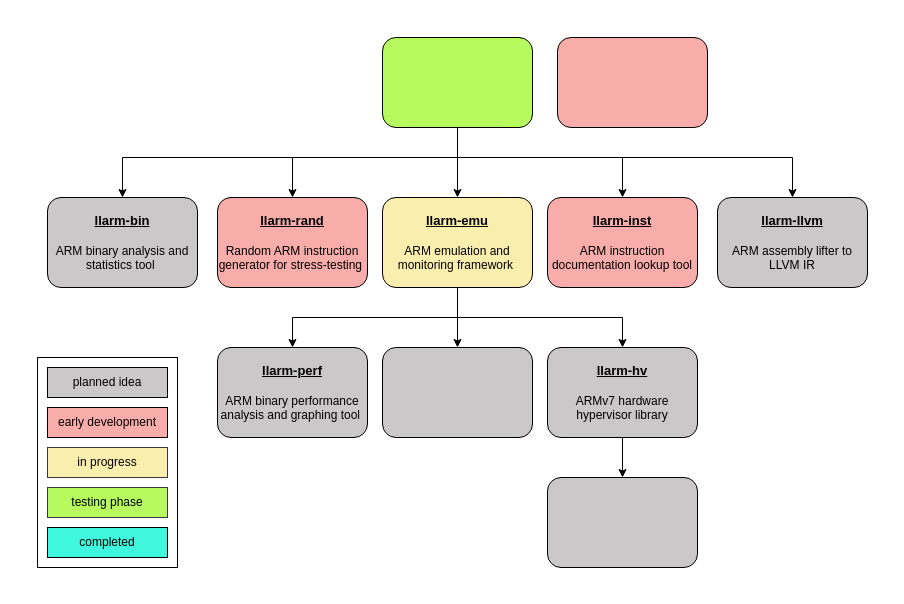
The diagram is 904 pixels wide and 604 high, and some of its shapes have lost their labels. Here are the shapes that lost their labels. From the top down, the centre of each, then its label:
At point (457, 82): "llarm-asm assembly, disassembly, identification, validation".
At point (632, 82): "llarm-cpu ARM CPU information fetching framework".
At point (457, 392): "llarm-sim ARM binary power and heat efficiency simulator".
At point (622, 522): "llarm-vm ARM system VM and full virtualization".
